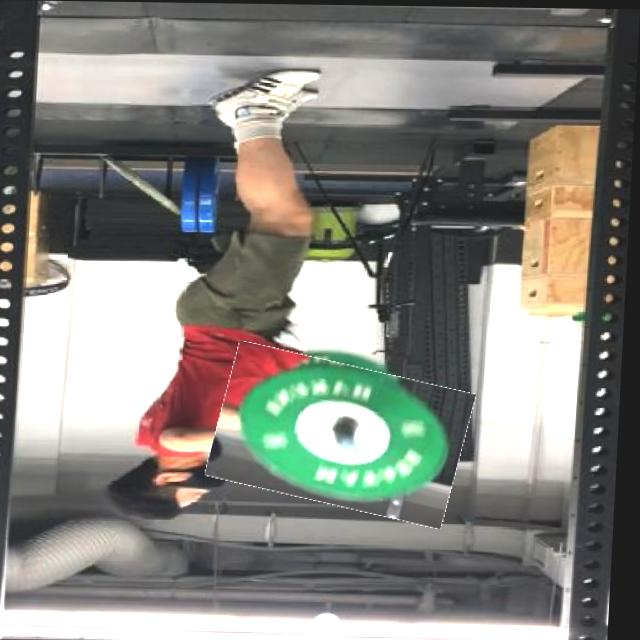barbell: (215, 352, 478, 517)
